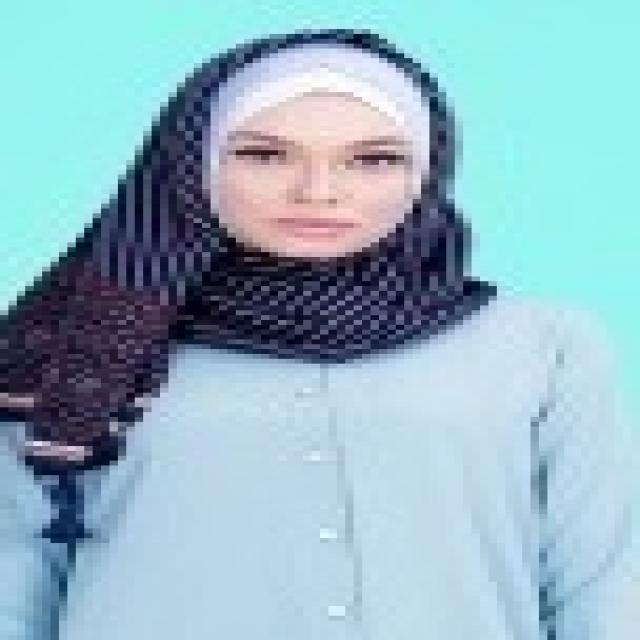head: (187, 29, 459, 279)
